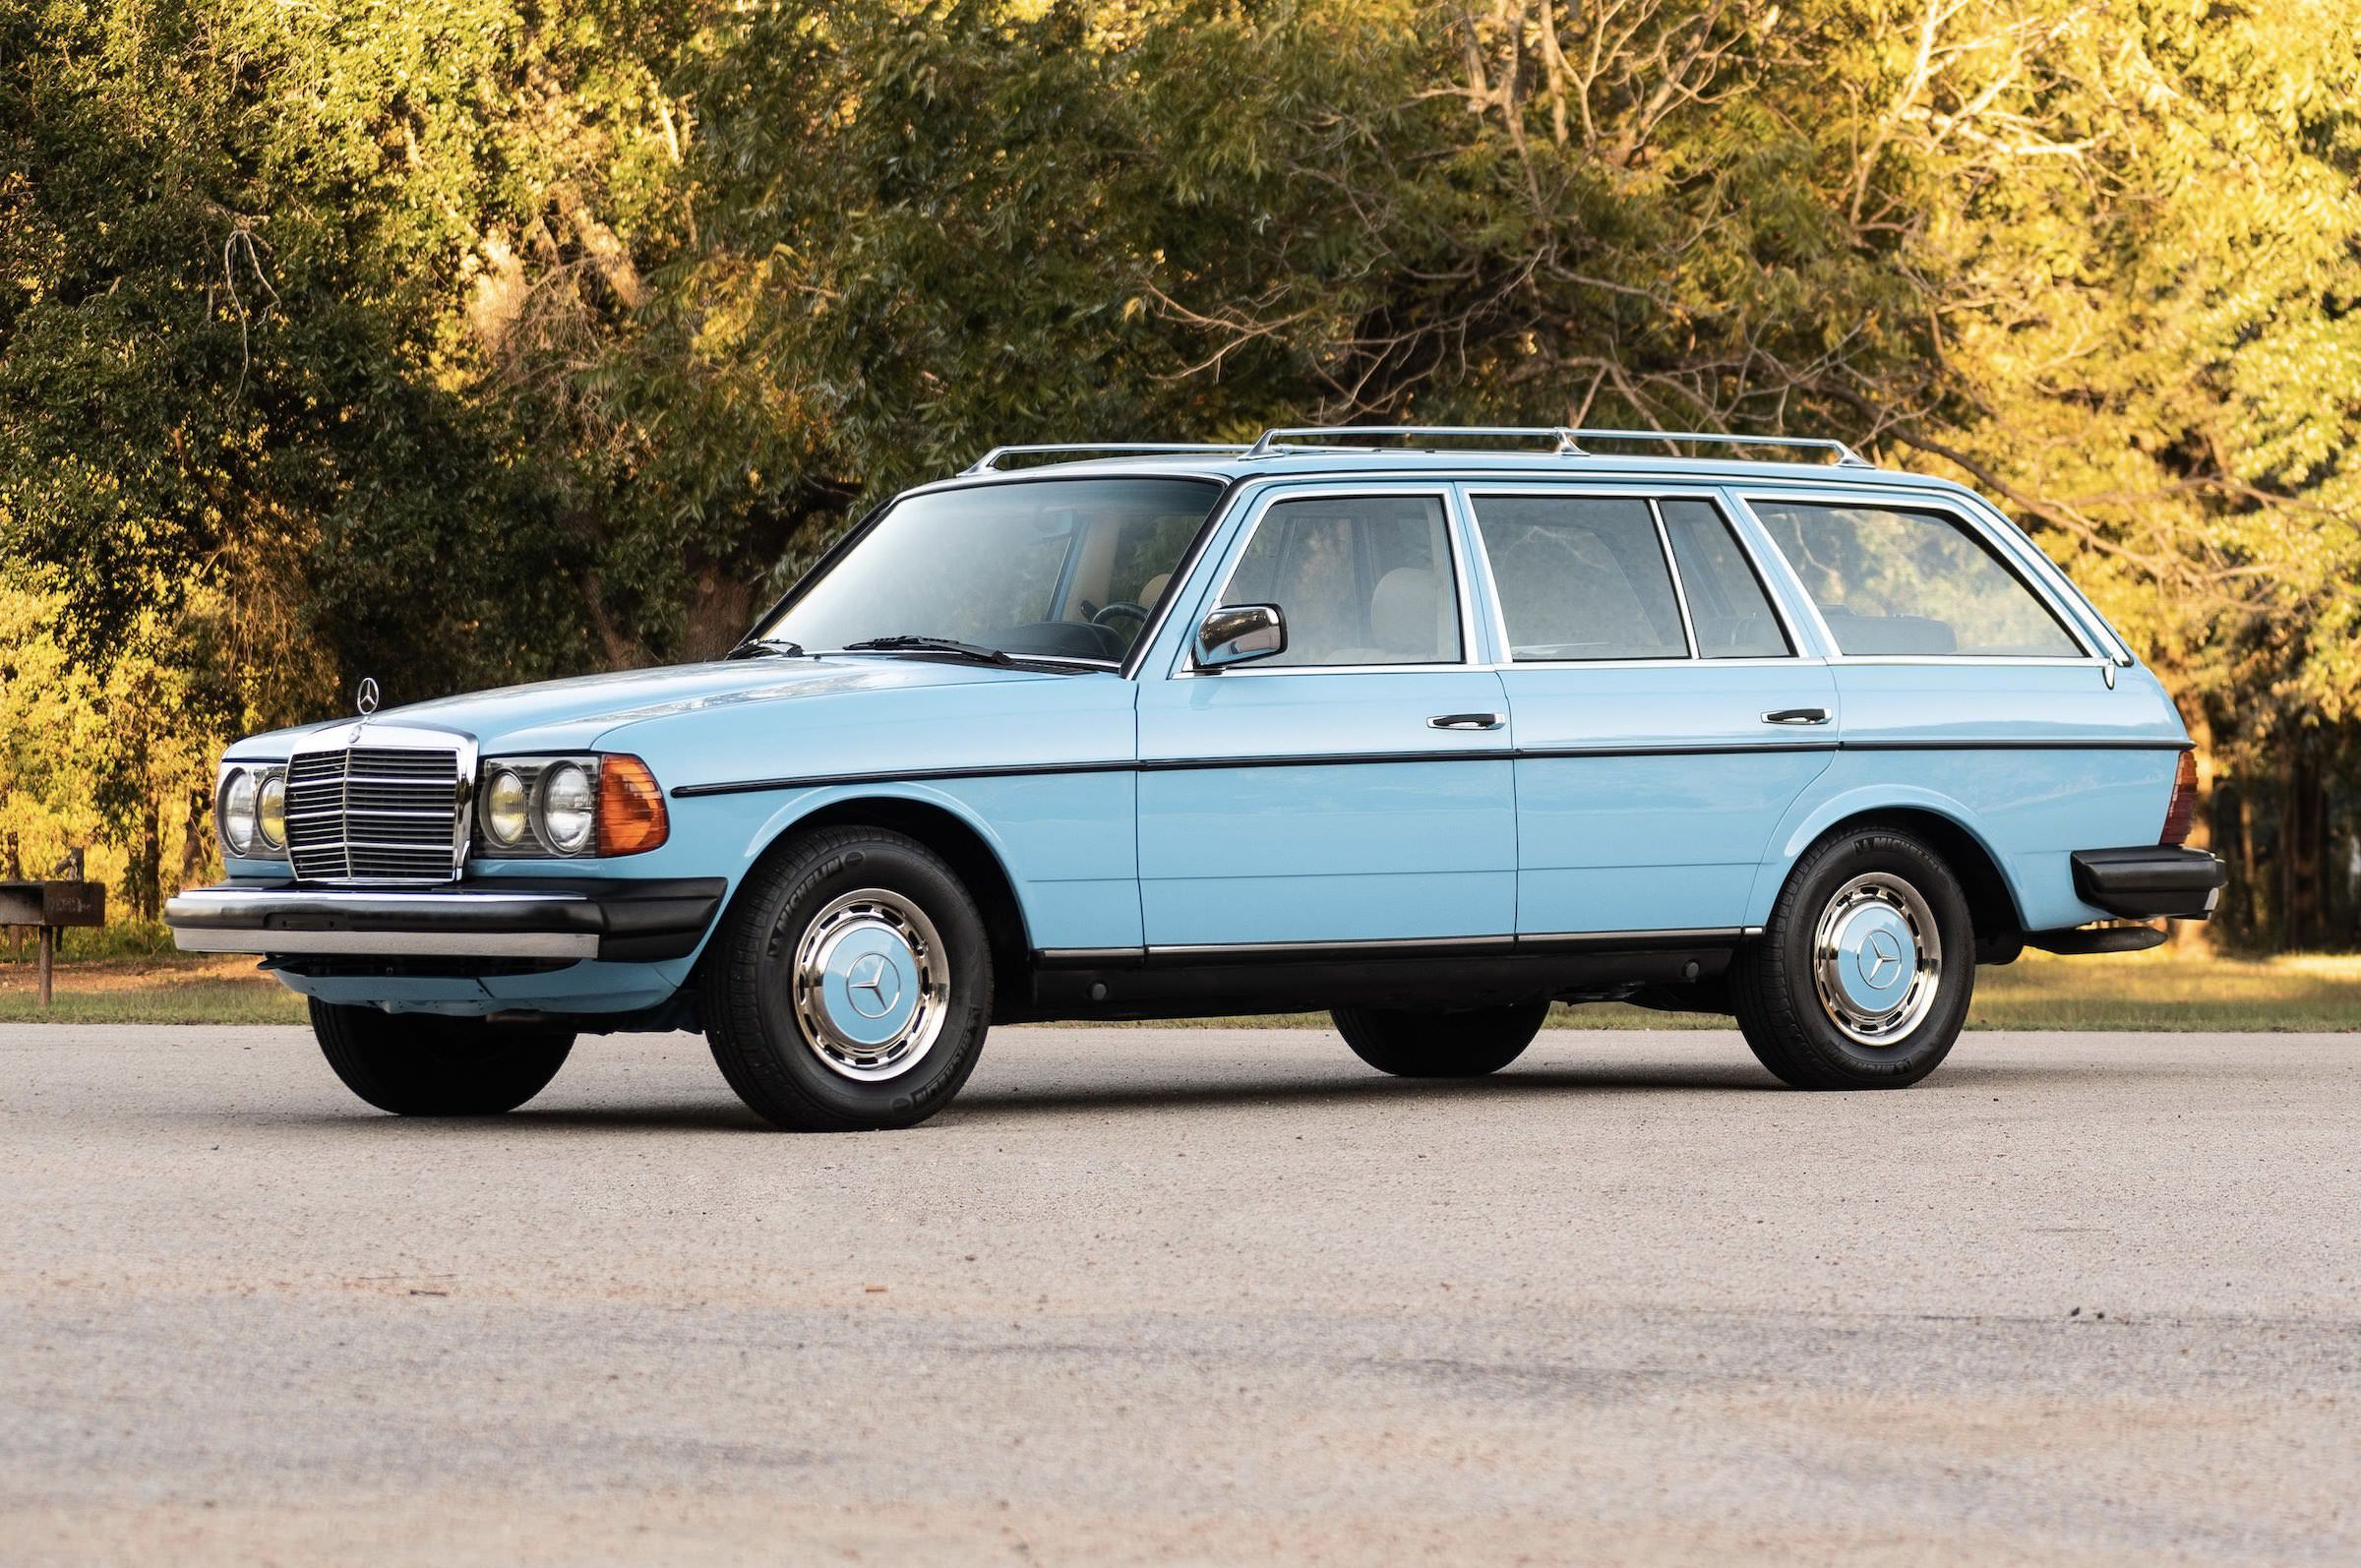car: (166, 424, 2219, 1132)
